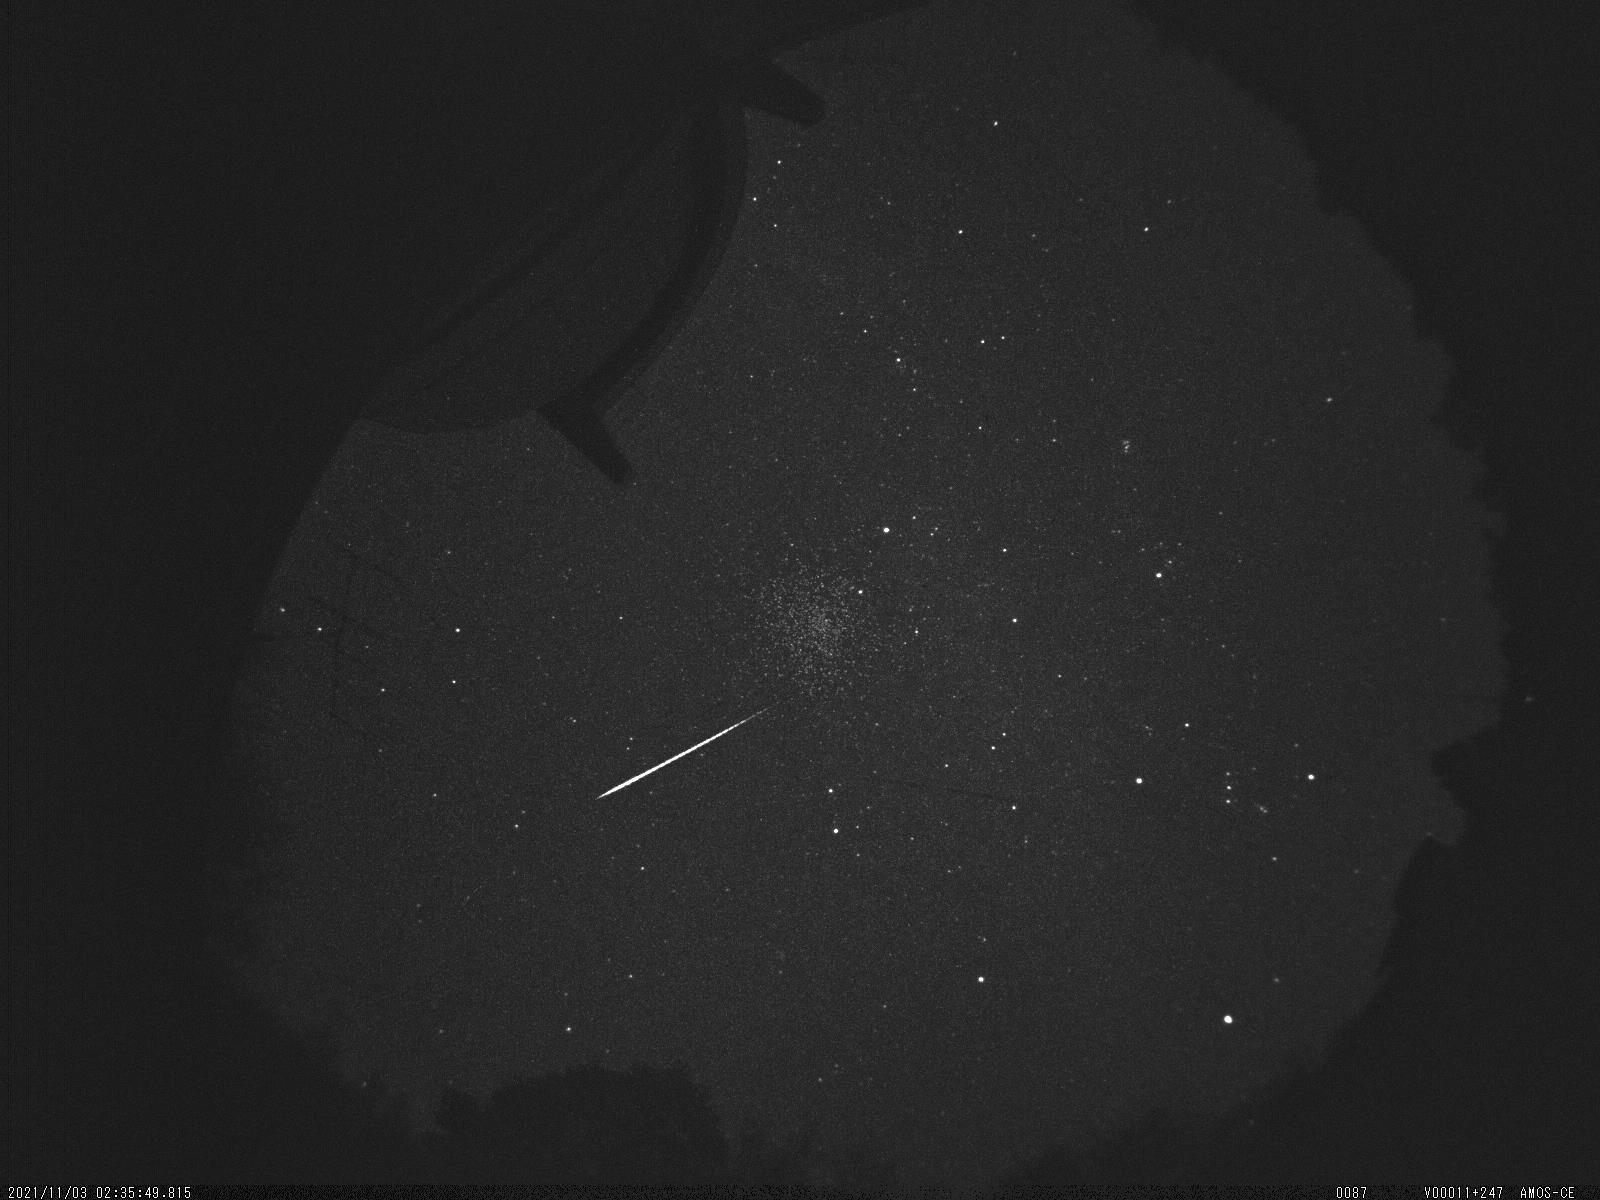Meteor: (586, 699, 777, 816)
